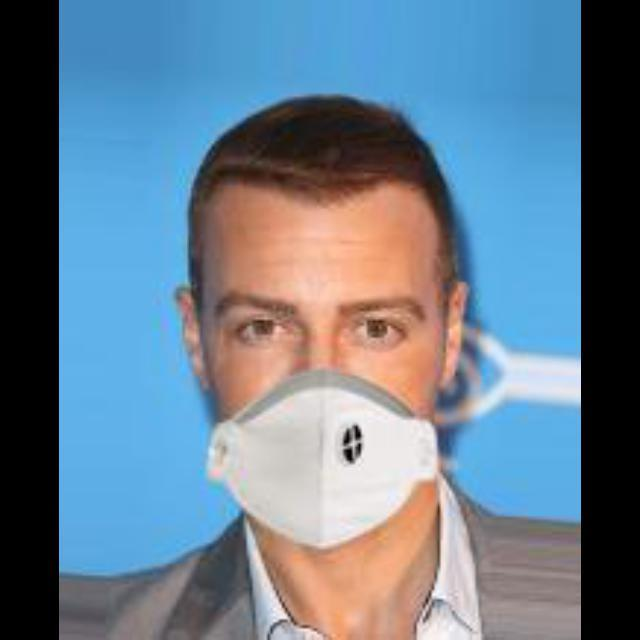suspicion: (177, 67, 538, 583)
